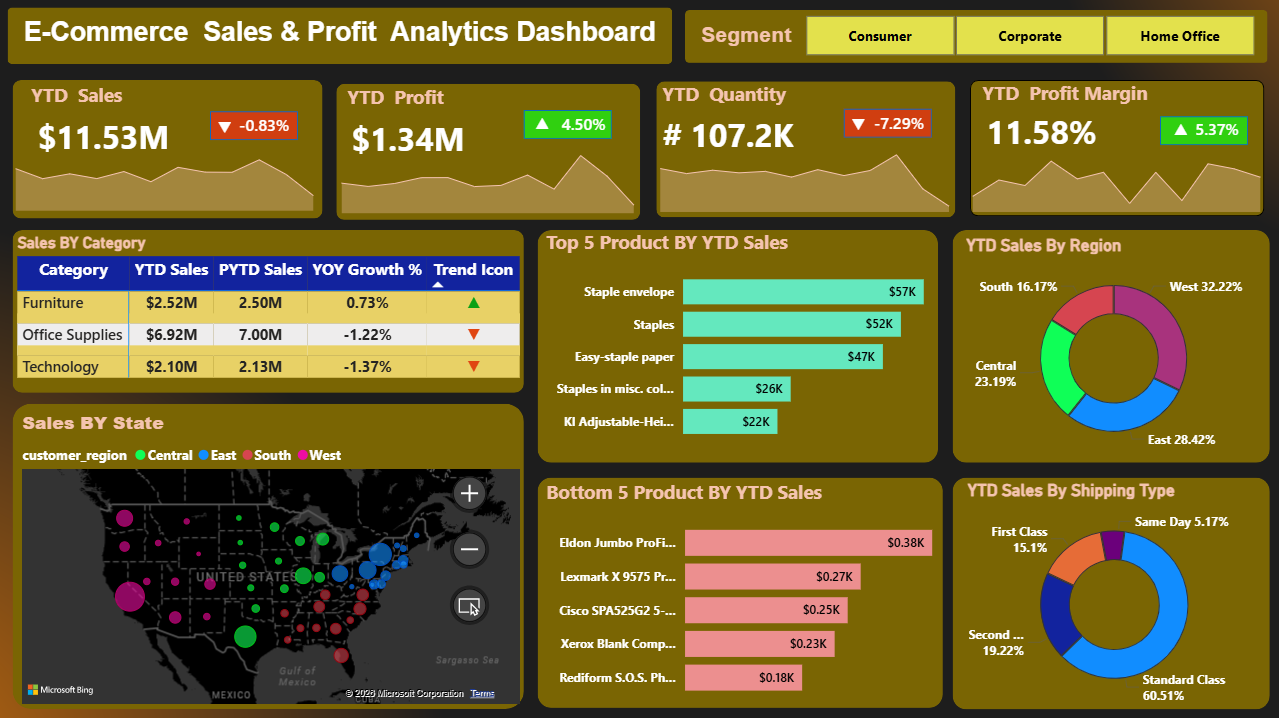

Layout of this report page (visuals, bound fields, positions):
{"tool":"powerbi","page":{"name":"Page 1","canvas":[1280,720],"ordinal":0},"visuals":[{"type":"shape","box":[7.2,7.2,664.7,56.7],"z":0},{"type":"textbox","box":[0,12.1,672,49.5],"z":1000},{"type":"shape","box":[12.1,79.6,310.1,138.7],"z":2000},{"type":"shape","box":[209.9,111,88.1,29],"z":3000},{"type":"cardVisual","fields":{"Data":["ecommerce_data.YTD Sales"]},"box":[8.4,85.7,235.3,96.5],"z":4000},{"type":"areaChart","fields":{"Y":["Sum(ecommerce_data.sales_per_order)"],"Category":["Calendar.Month"]},"box":[0,137.5,329.4,78.4],"z":5000},{"type":"cardVisual","fields":{"Data":["ecommerce_data.YOY Growth"]},"box":[209.9,96.5,121.9,55.5],"z":6000},{"type":"cardVisual","fields":{"Data":["ecommerce_data.Trend Icon"]},"box":[188.2,100.1,74.8,50.7],"z":7000},{"type":"textbox","box":[26.5,77.2,119.4,41],"z":8000},{"type":"shape","box":[336.6,83.2,304,136.3],"z":9000},{"type":"shape","box":[523.6,109.8,88.1,29],"z":10000},{"type":"areaChart","fields":{"Category":["Calendar.Month"],"Y":["Sum(ecommerce_data.profit_per_order)"]},"box":[325.7,139.9,323.3,78.4],"z":11000},{"type":"cardVisual","fields":{"Data":["ecommerce_data.YOY Profit %"]},"box":[532,95.3,121.9,55.5],"z":12000},{"type":"cardVisual","fields":{"Data":["ecommerce_data.Profit Trend Icon"]},"box":[506.7,96.5,72.4,50.7],"z":13000},{"type":"textbox","box":[342.6,78.4,119.4,41],"z":14000},{"type":"shape","box":[656.3,80.8,299.2,136.3],"z":15000},{"type":"shape","box":[843.3,108.6,88.1,29],"z":16000},{"type":"areaChart","fields":{"Category":["Calendar.Month"],"Y":["Sum(ecommerce_data.order_quantity)"]},"box":[645.4,138.7,319.7,78.4],"z":17000},{"type":"cardVisual","fields":{"Data":["ecommerce_data.YOY Quantity %"]},"box":[844.5,94.1,121.9,55.5],"z":18000},{"type":"cardVisual","fields":{"Data":["ecommerce_data.Quantity Trend Icon"]},"box":[822.8,97.7,74.8,50.7],"z":19000},{"type":"textbox","box":[657.5,76,164.1,41],"z":20000},{"type":"shape","box":[970,79.6,294.4,136.3],"z":21000},{"type":"shape","box":[1160.6,115.8,88.1,29],"z":22000},{"type":"areaChart","fields":{"Category":["Calendar.Month"],"Y":["ecommerce_data.profit margin ratio"]},"box":[957.9,138.7,318.5,78.4],"z":23000},{"type":"cardVisual","fields":{"Data":["ecommerce_data.YOY Profit Marin"]},"box":[1166.6,100.1,105,55.5],"z":24000},{"type":"cardVisual","fields":{"Data":["ecommerce_data.Profit Trend Icon"]},"box":[1144.9,102.5,74.8,50.7],"z":25000},{"type":"textbox","box":[977.2,74.8,205.1,41],"z":26000},{"type":"cardVisual","fields":{"Data":["ecommerce_data.YTD Profit"]},"box":[322.1,89.3,235.3,96.5],"z":27000},{"type":"cardVisual","fields":{"Data":["ecommerce_data.YTD concat Qty"]},"box":[633.4,84.5,235.3,96.5],"z":28000},{"type":"cardVisual","fields":{"Data":["ecommerce_data.YTD Profit Margin"]},"box":[957.9,80.8,235.3,96.5],"z":29000},{"type":"shape","box":[12.1,230.4,511.5,162.9],"z":30000},{"type":"pivotTable","title":"   Sales BY Category","fields":{"Rows":["ecommerce_data.category_name"],"Values":["ecommerce_data.YTD Sales","ecommerce_data.PYTD Sales","ecommerce_data.YOY Growth %","ecommerce_data.Trend Icon"]},"box":[12.1,234,534.5,168.9],"z":31000},{"type":"shape","box":[12.1,404.2,511.5,305.2],"z":32000},{"type":"map","title":"Sales BY State","fields":{"Category":["ecommerce_data.customer_state"],"Series":["ecommerce_data.customer_region"],"Size":["ecommerce_data.YTD Sales"]},"box":[16.9,410.2,506.7,299.2],"z":33000},{"type":"shape","box":[538.1,230.4,400.5,232.8],"z":34000},{"type":"shape","box":[538.1,477.8,405.4,230.4],"z":35000},{"type":"barChart","title":"Top 5 Product BY YTD Sales","fields":{"Category":["ecommerce_data.product_name"],"Y":["ecommerce_data.YTD Sales"]},"box":[541.7,229.2,433.1,234],"z":36000},{"type":"barChart","title":"Bottom 5 Product BY YTD Sales","fields":{"Category":["ecommerce_data.product_name"],"Y":["ecommerce_data.YTD Sales"]},"box":[541.7,479,436.7,241.3],"z":37000},{"type":"shape","box":[951.9,230.4,317.3,232.8],"z":38000},{"type":"donutChart","title":"YTD Sales By Region","fields":{"Category":["ecommerce_data.customer_region"],"Y":["ecommerce_data.YTD Sales"]},"box":[961.5,235.3,305.2,228],"z":39000},{"type":"shape","box":[953.1,477.8,317.3,232],"z":40000},{"type":"donutChart","title":"YTD Sales By Shipping Type","fields":{"Y":["ecommerce_data.YTD Sales"],"Category":["ecommerce_data.shipping_type"]},"box":[962.7,480.2,304,230.4],"z":41000},{"type":"shape","box":[685.3,9.7,582.7,53.1],"z":42000},{"type":"slicer","fields":{"Values":["ecommerce_data.customer_segment"]},"box":[780.6,8.4,498.3,53.1],"z":43000},{"type":"textbox","box":[696.1,18.1,164.1,41],"z":44000}]}

Visuals, with their boxes in screenshot pixels (x1, y1, x2, y2), scaled from the page's 1280x720 canvas onto the 1279x718 screenshot:
shape: region(7, 7, 671, 64)
textbox: region(0, 12, 671, 61)
shape: region(12, 79, 322, 218)
shape: region(210, 111, 298, 140)
cardVisual - ecommerce_data.YTD Sales: region(8, 85, 244, 182)
areaChart - Sum(ecommerce_data.sales_per_order) x Calendar.Month: region(0, 137, 329, 215)
cardVisual - ecommerce_data.YOY Growth: region(210, 96, 332, 152)
cardVisual - ecommerce_data.Trend Icon: region(188, 100, 263, 150)
textbox: region(26, 77, 146, 118)
shape: region(336, 83, 640, 219)
shape: region(523, 109, 611, 138)
areaChart - Calendar.Month x Sum(ecommerce_data.profit_per_order): region(325, 140, 648, 218)
cardVisual - ecommerce_data.YOY Profit %: region(532, 95, 653, 150)
cardVisual - ecommerce_data.Profit Trend Icon: region(506, 96, 579, 147)
textbox: region(342, 78, 462, 119)
shape: region(656, 81, 955, 216)
shape: region(843, 108, 931, 137)
areaChart - Calendar.Month x Sum(ecommerce_data.order_quantity): region(645, 138, 964, 216)
cardVisual - ecommerce_data.YOY Quantity %: region(844, 94, 966, 149)
cardVisual - ecommerce_data.Quantity Trend Icon: region(822, 97, 897, 148)
textbox: region(657, 76, 821, 117)
shape: region(969, 79, 1263, 215)
shape: region(1160, 115, 1248, 144)
areaChart - Calendar.Month x ecommerce_data.profit margin ratio: region(957, 138, 1275, 216)
cardVisual - ecommerce_data.YOY Profit Marin: region(1166, 100, 1271, 155)
cardVisual - ecommerce_data.Profit Trend Icon: region(1144, 102, 1219, 153)
textbox: region(976, 75, 1181, 115)
cardVisual - ecommerce_data.YTD Profit: region(322, 89, 557, 185)
cardVisual - ecommerce_data.YTD concat Qty: region(633, 84, 868, 180)
cardVisual - ecommerce_data.YTD Profit Margin: region(957, 81, 1192, 177)
shape: region(12, 230, 523, 392)
"   Sales BY Category" pivotTable: region(12, 233, 546, 402)
shape: region(12, 403, 523, 707)
"Sales BY State" map: region(17, 409, 523, 707)
shape: region(538, 230, 938, 462)
shape: region(538, 476, 943, 706)
"Top 5 Product BY YTD Sales" barChart: region(541, 229, 974, 462)
"Bottom 5 Product BY YTD Sales" barChart: region(541, 478, 978, 717)
shape: region(951, 230, 1268, 462)
"YTD Sales By Region" donutChart: region(961, 235, 1266, 462)
shape: region(952, 476, 1269, 708)
"YTD Sales By Shipping Type" donutChart: region(962, 479, 1266, 709)
shape: region(685, 10, 1267, 63)
slicer - ecommerce_data.customer_segment: region(780, 8, 1278, 61)
textbox: region(696, 18, 860, 59)
